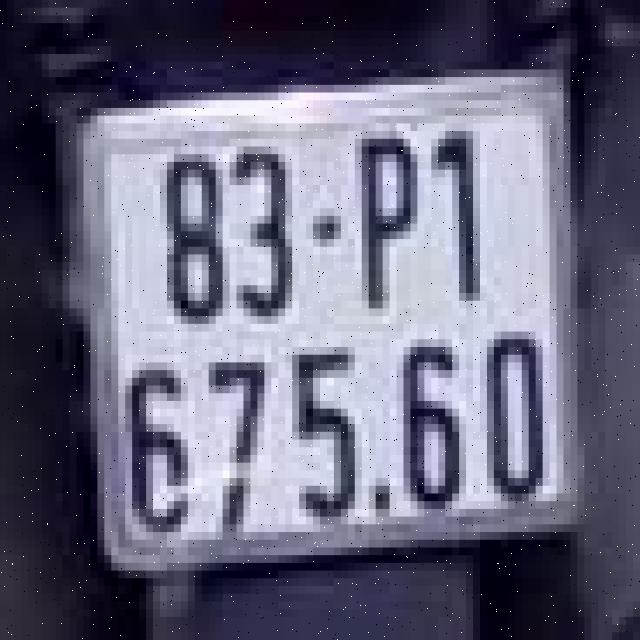0: (484, 320, 553, 513)
1: (424, 120, 494, 304)
3: (233, 139, 303, 324)
5: (278, 340, 362, 524)
6: (122, 351, 198, 551), (393, 328, 470, 512)
7: (198, 351, 275, 536)
8: (157, 150, 226, 328)
P: (341, 124, 424, 332)
